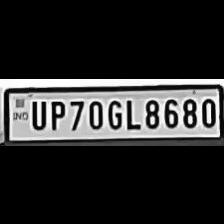0: (86, 96, 104, 128), (198, 94, 216, 126)
6: (161, 94, 179, 128)
7: (66, 96, 84, 130)
8: (142, 96, 160, 128), (180, 94, 196, 128)
G: (105, 96, 123, 128)
L: (122, 96, 140, 128)
P: (46, 96, 66, 130)
U: (28, 96, 46, 130)
